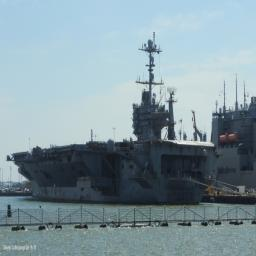Portanaves: (4, 30, 216, 206)
